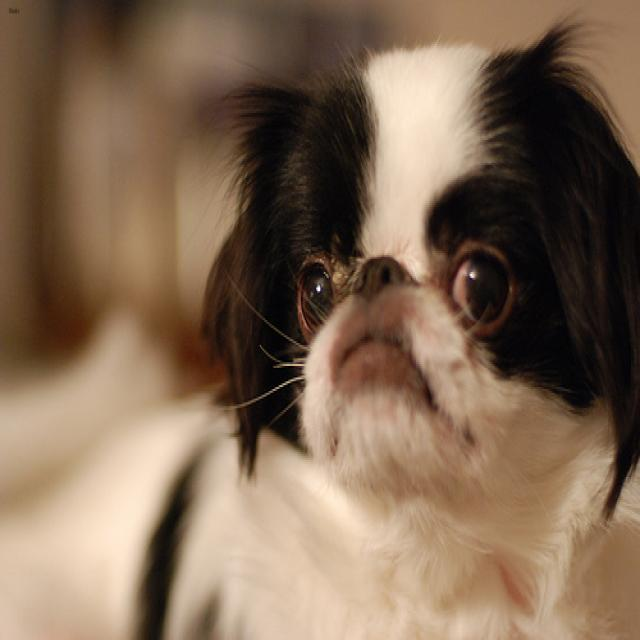dog-japanese_chin: (1, 8, 637, 636)
